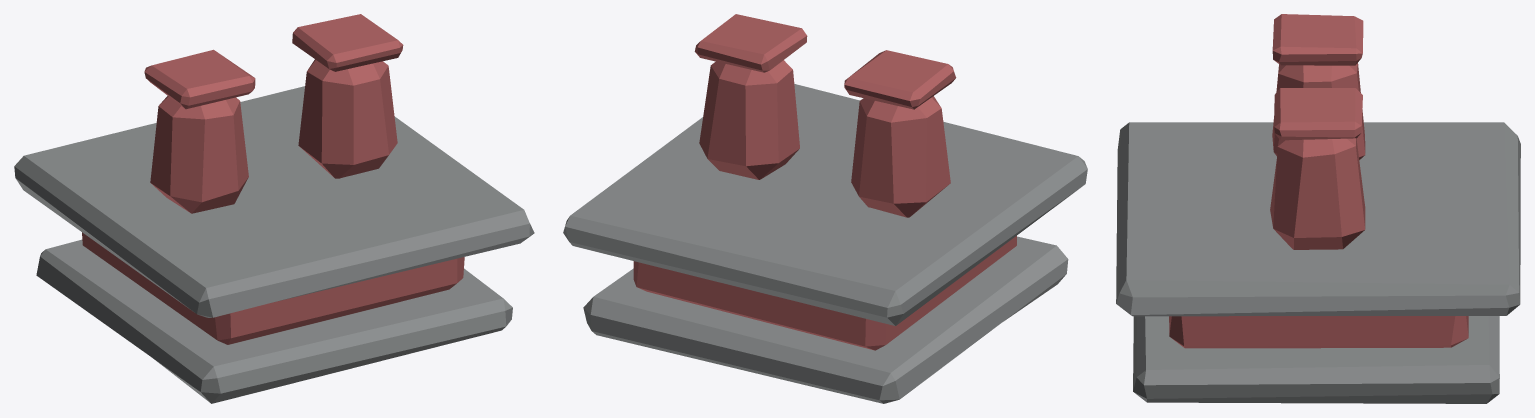
File: PKX_Chimney_Cap.fbx
3 renders of one model, left to right at view 1: azimuth 30°, elevation 25°; view 2: azimuth 150°, elevation 25°; view 3: azimuth 270°, elevation 25°, orthographic. The views are drawn at different scales.
Visible parts, largest first — view 1: PKX_Chimney_Cap; view 2: PKX_Chimney_Cap; view 3: PKX_Chimney_Cap.
Boxes of the visible parts, x1=… form: PKX_Chimney_Cap: x1=14, y1=14, x2=534, y2=403; PKX_Chimney_Cap: x1=563, y1=14, x2=1087, y2=403; PKX_Chimney_Cap: x1=1116, y1=14, x2=1520, y2=403.
Bounding box in the file's own units: 101 × 73.18 × 101.
